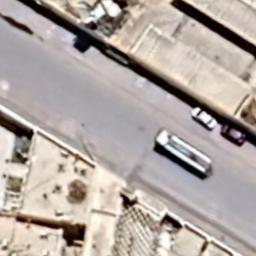sedan: (190, 106, 218, 130), (220, 124, 246, 148)
truck: (154, 126, 214, 180)
